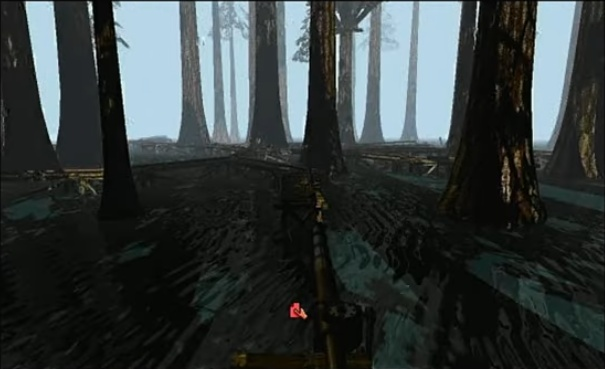Keep: (287, 299, 311, 322)
